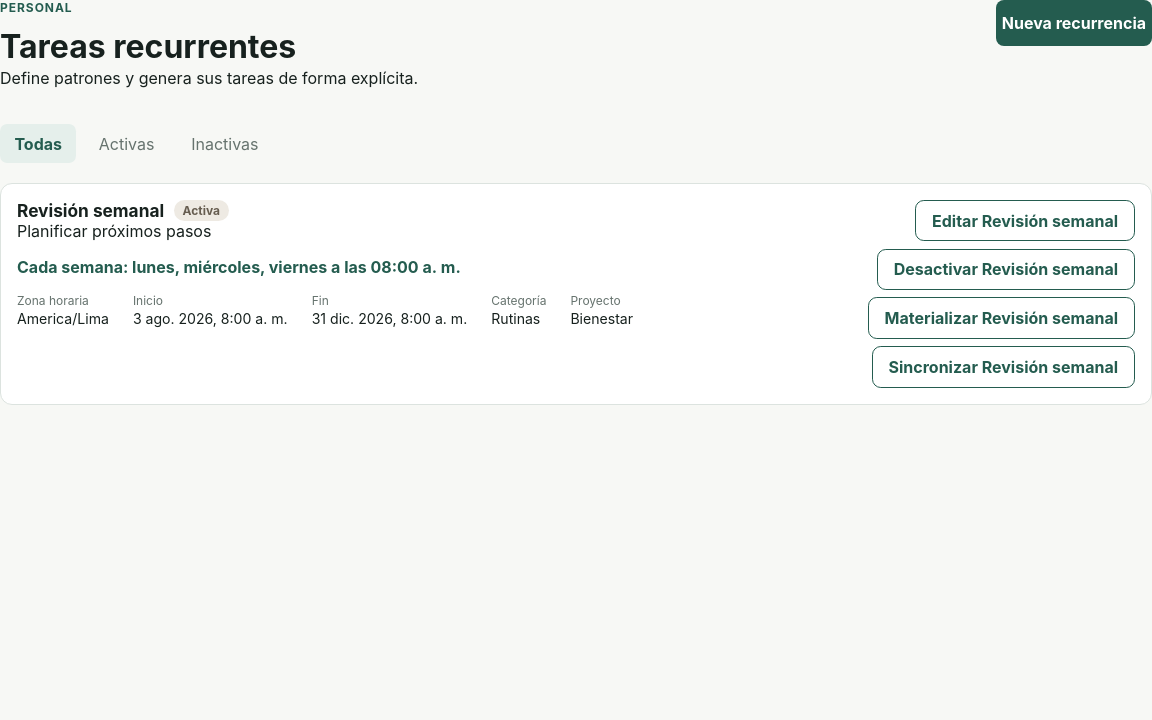
Test: RecurringTasksPage › summarizes synchronization and invalidates only current Workspace task/dashboard caches
This screenshot has width=1152, height=720.
Check: the heading "Revisión semanal" is shown, box [17, 200, 164, 221]
Step 1. Click the button "Sincronizar Revisión semanal" → (1003, 367), box [872, 346, 1135, 388]
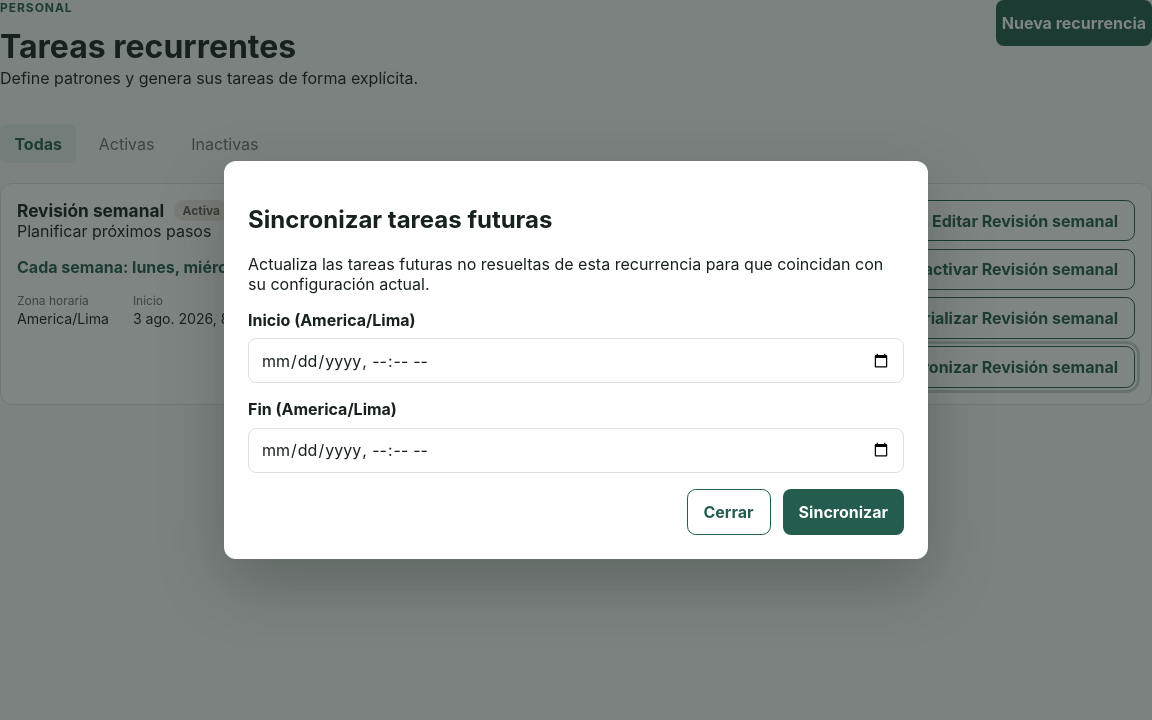
Check: the text "tareas futuras no resueltas" is shown, box [248, 254, 883, 294]
Step 2. Type "2026-08-10T00:00" into the field labelled "Inicio (America/Lima)" → (576, 361), box [248, 338, 904, 383]
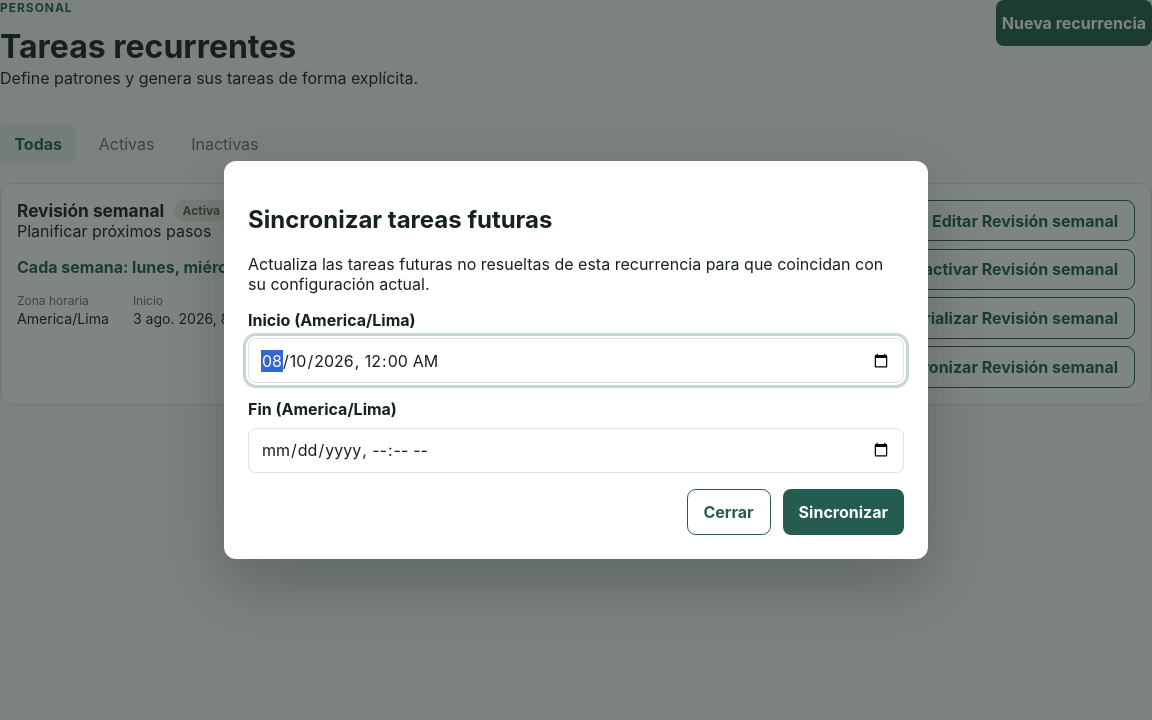
Step 3. Type "2026-08-17T23:59" into the field labelled "Fin (America/Lima)" → (576, 450), box [248, 428, 904, 473]
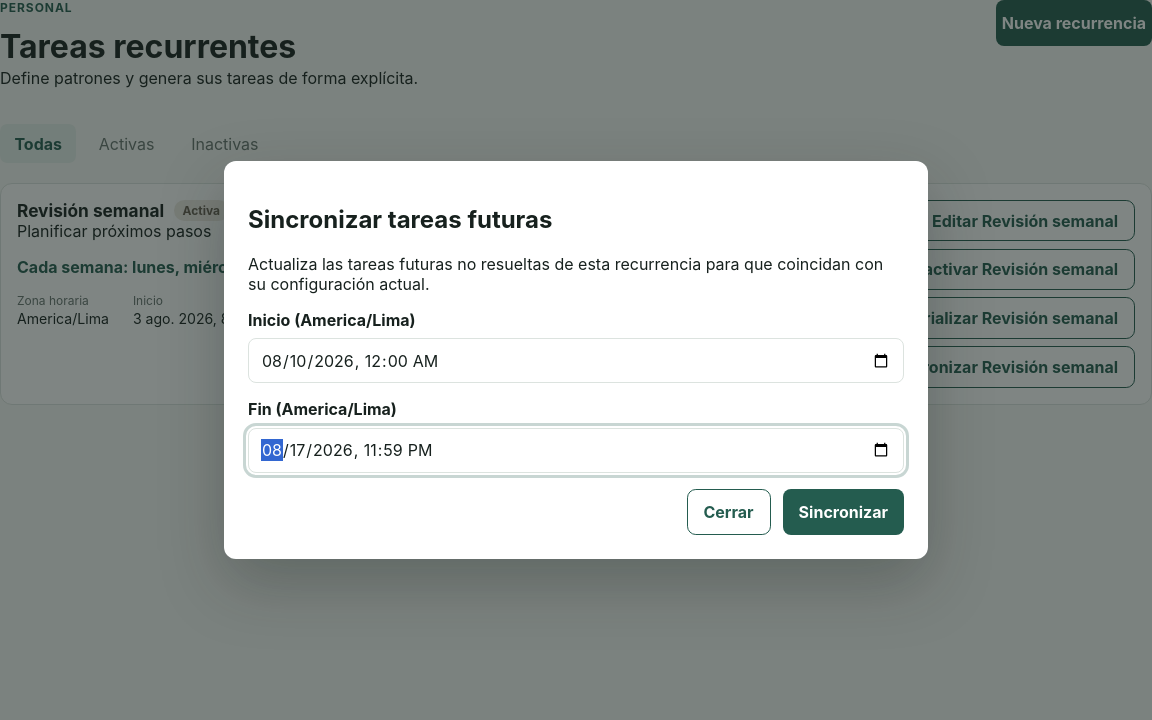
Step 4. Click the button "Sincronizar" → (843, 512), box [783, 489, 904, 535]
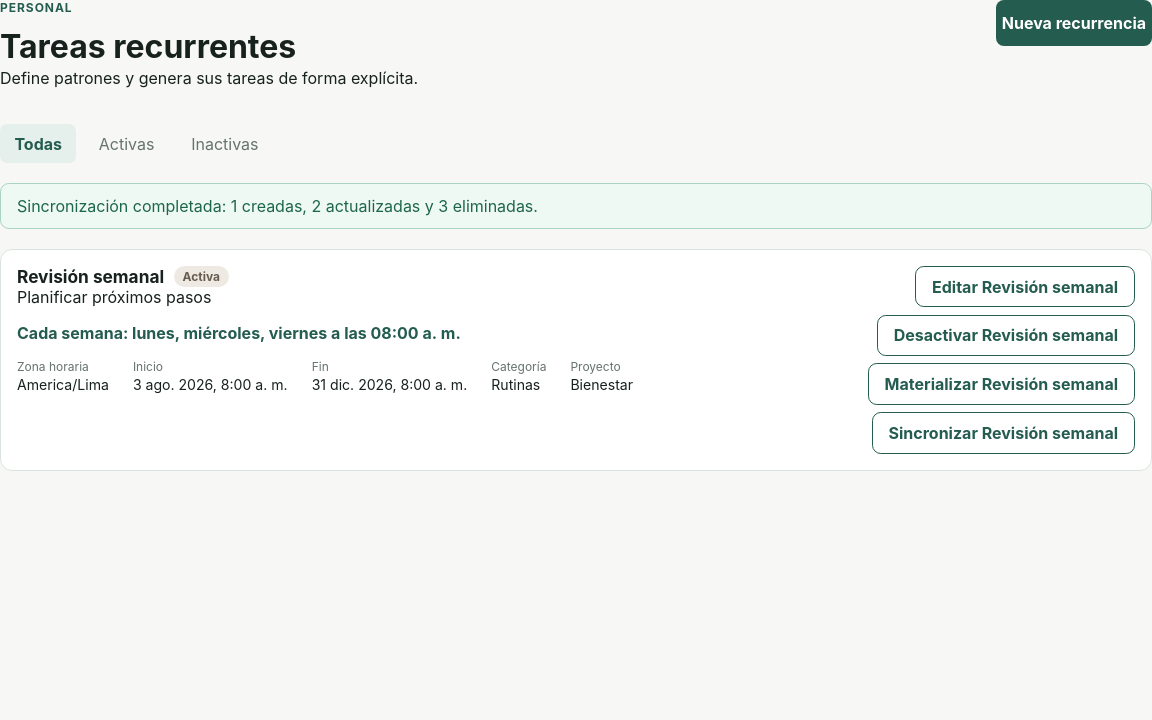
Check: the text "Sincronización completada: 1 creadas, 2 actualizadas y 3 eliminadas." is shown, box [0, 183, 1151, 229]
